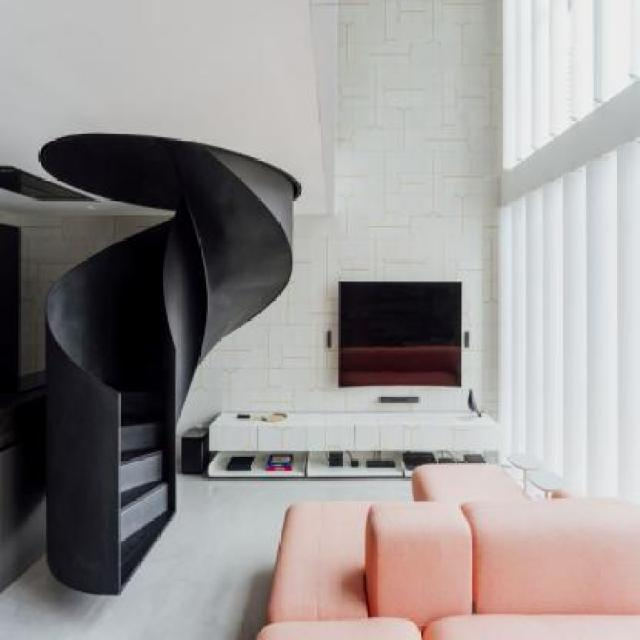stair: (29, 199, 183, 604)
